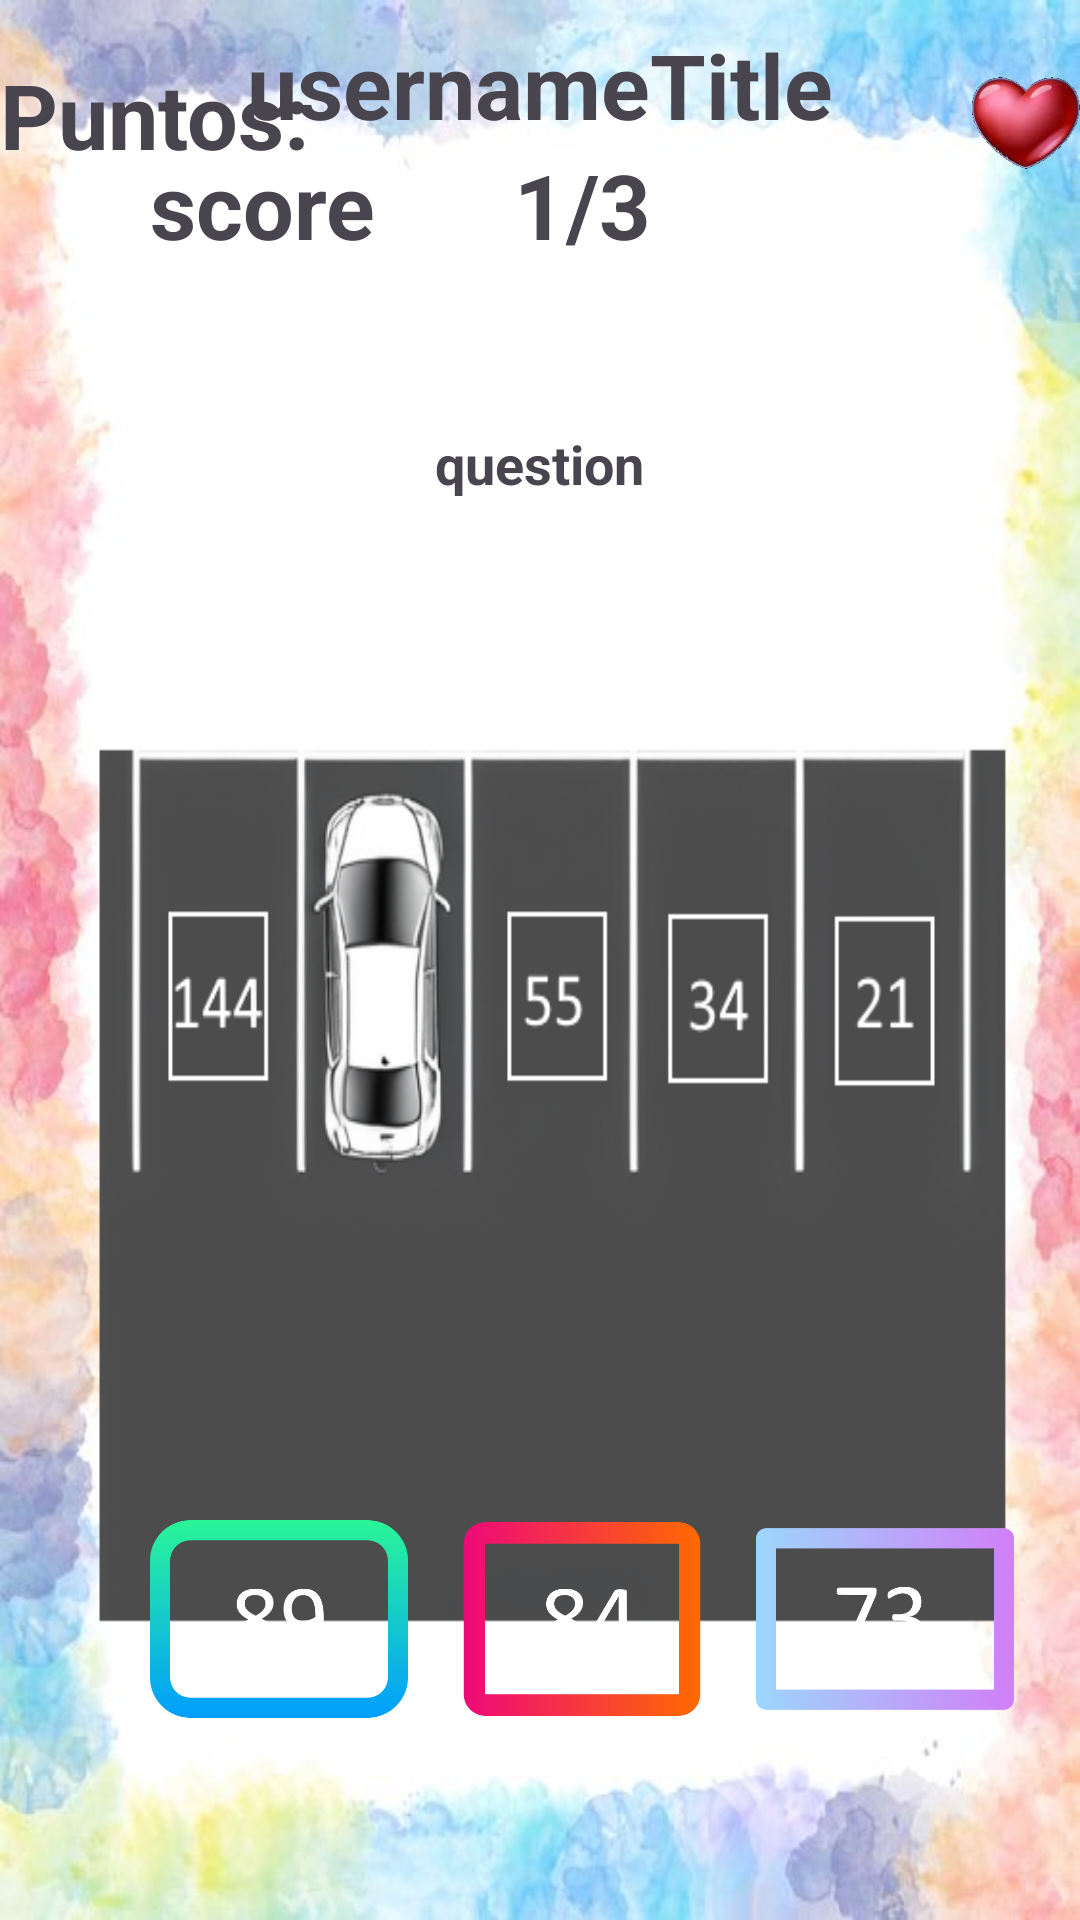

Named icons in this screenshot (1080 × 1920) and their centers, (x=x, y=y):
life: (x=1026, y=123)
